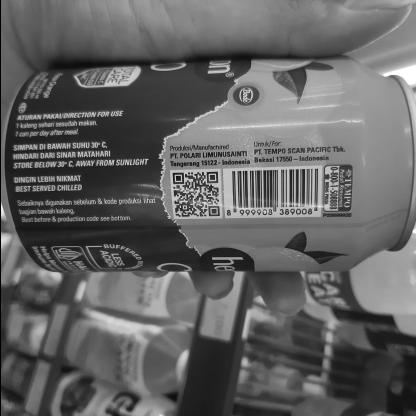alumunium_can: (0, 46, 416, 296)
